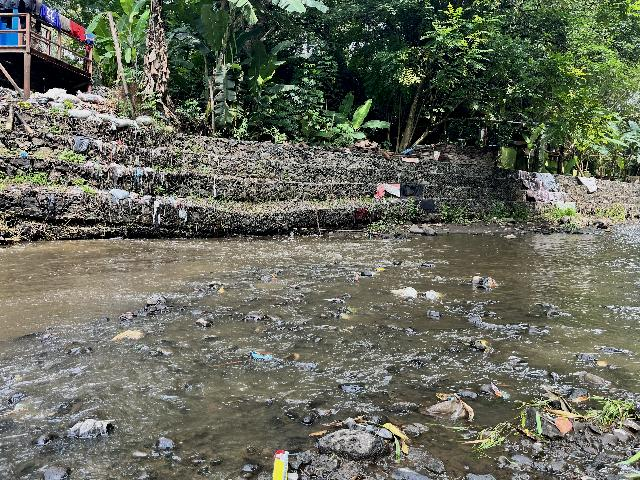Sampah Anorganik: (429, 393, 476, 422), (270, 447, 291, 480), (470, 275, 498, 289), (490, 382, 512, 399), (387, 287, 418, 297), (322, 294, 347, 305), (250, 350, 273, 361), (423, 289, 440, 299), (373, 267, 387, 272), (290, 283, 299, 287)
Sampah Organik: (514, 396, 637, 431), (312, 414, 410, 456), (468, 425, 505, 452), (108, 328, 147, 342), (283, 352, 301, 360), (479, 339, 489, 353), (254, 313, 268, 322), (117, 312, 134, 318), (269, 272, 279, 281), (217, 287, 226, 294), (598, 360, 606, 366), (354, 274, 360, 281)
